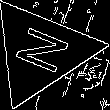N_SE: (7, 23, 75, 80)
